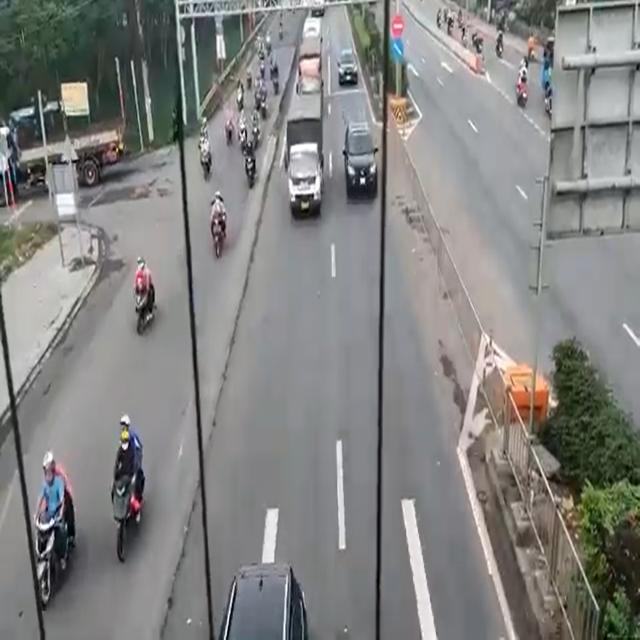car: (345, 119, 375, 210), (338, 48, 354, 85)
motor: (109, 471, 132, 554), (34, 524, 54, 606), (132, 289, 148, 338), (212, 214, 224, 268), (198, 139, 213, 182), (245, 156, 256, 188)
truck: (287, 94, 322, 210), (296, 38, 322, 90)
